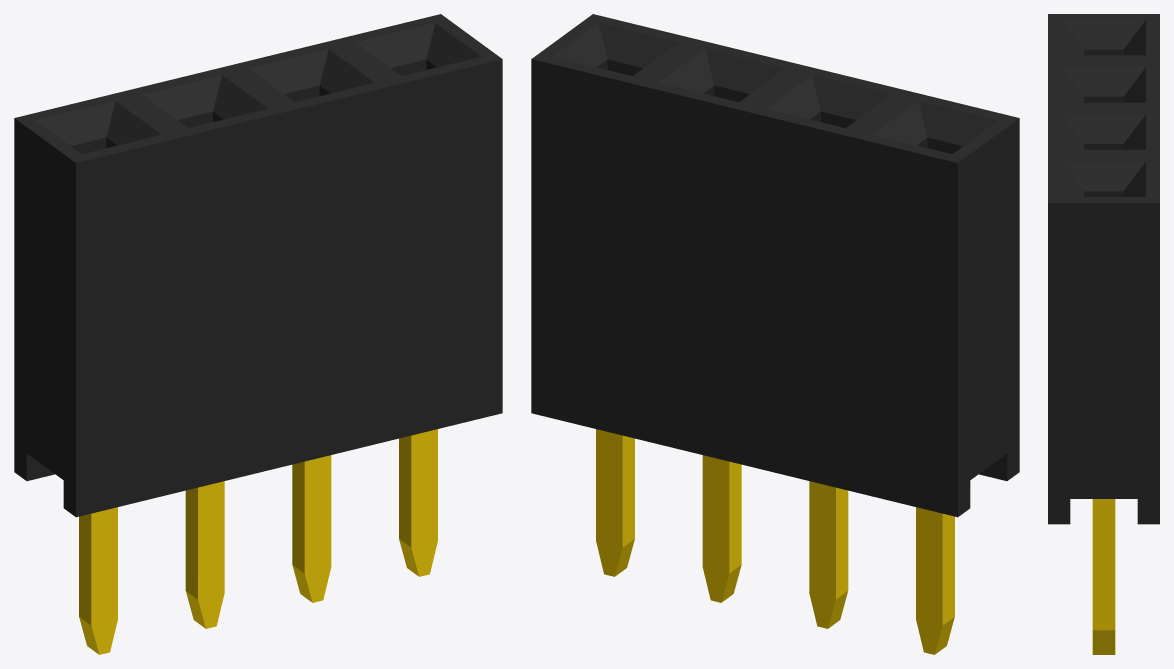
The model's file is PBS2-4.glb.
3 renders of one model, left to right at view 1: azimuth 30°, elevation 25°; view 2: azimuth 150°, elevation 25°; view 3: azimuth 270°, elevation 25°, orthographic. The views are drawn at different scales.
Parts seen in each view (by area): view 1: PBS2 (DS1026-20 CONNFLY); view 2: PBS2 (DS1026-20 CONNFLY); view 3: PBS2 (DS1026-20 CONNFLY).
Boxes of the visible parts, x1,y1,x2,y2 form: PBS2 (DS1026-20 CONNFLY): [14, 14, 502, 654]; PBS2 (DS1026-20 CONNFLY): [531, 14, 1019, 654]; PBS2 (DS1026-20 CONNFLY): [1048, 14, 1159, 654].
Bounding box in the file's own units: 0.008 × 0.00935 × 0.002.
